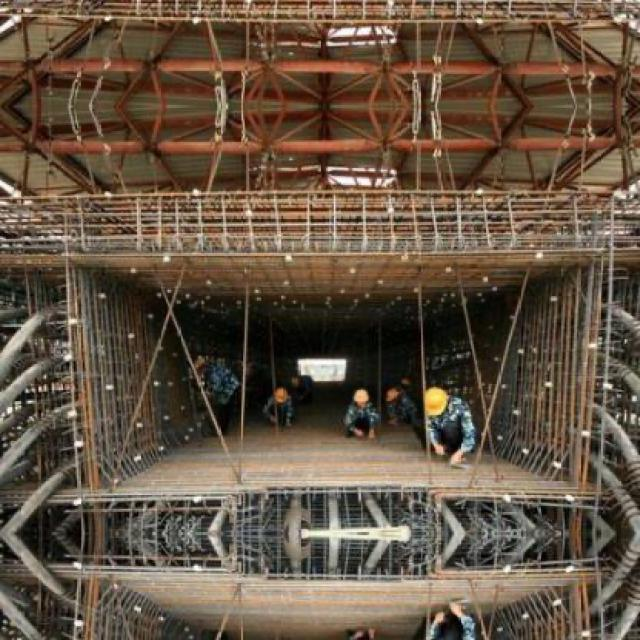helmet: (418, 387, 452, 423), (351, 388, 374, 414), (272, 384, 294, 409), (383, 384, 400, 406)
